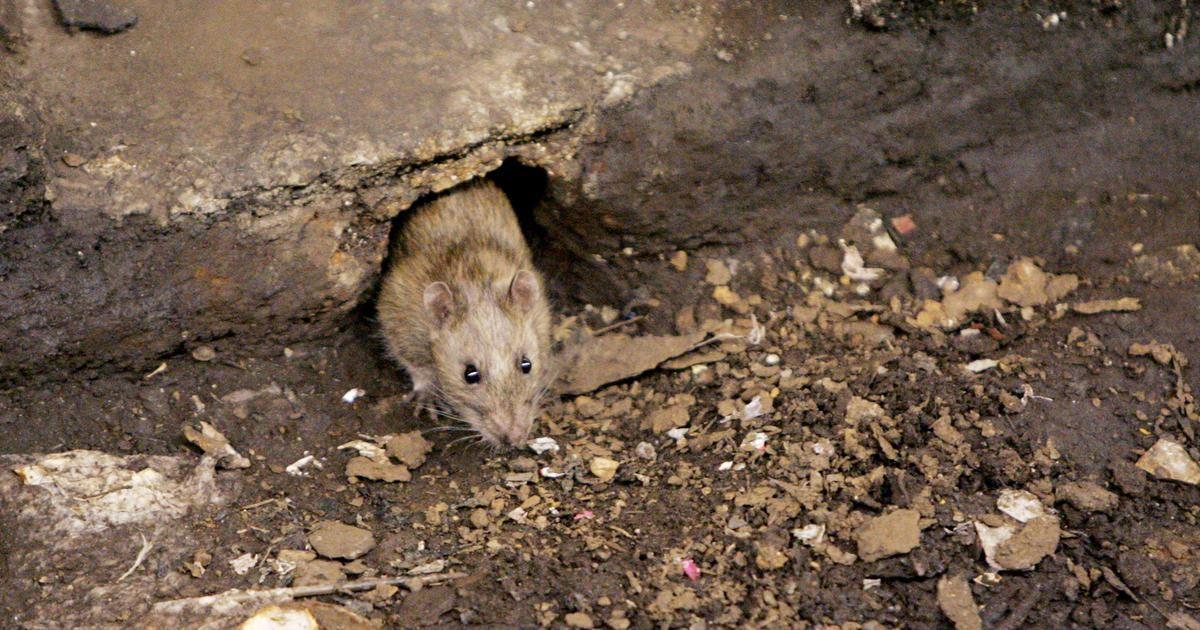rat: (377, 186, 554, 448)
